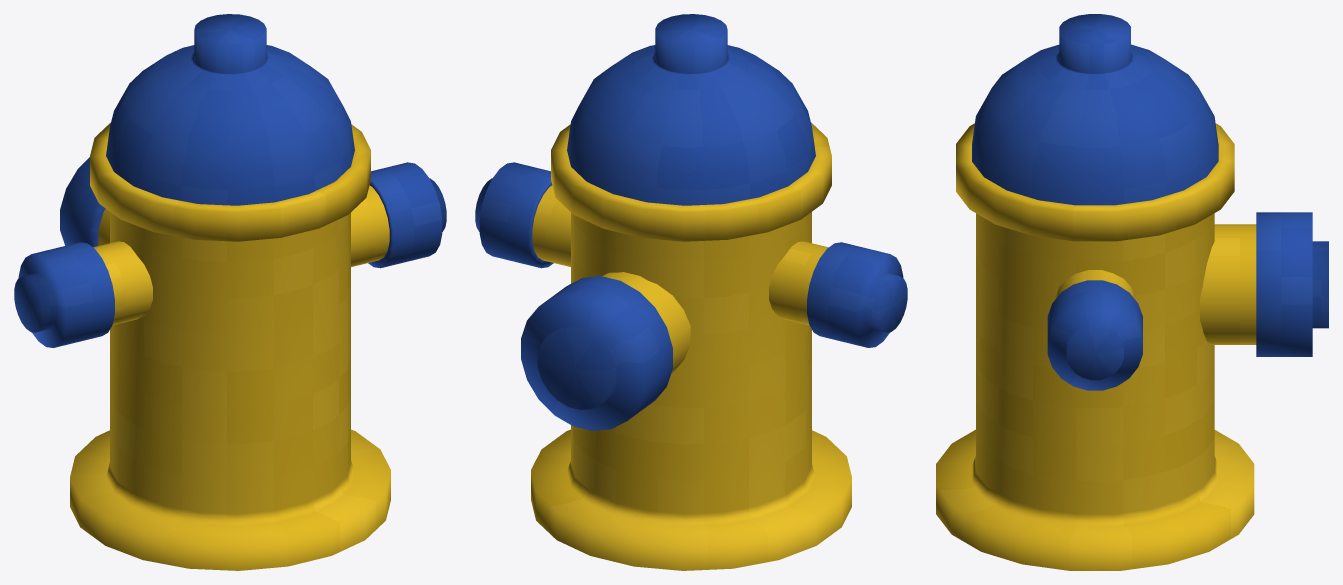
File: streetscape_hydrant.obj
3 renders of one model, left to right at view 1: azimuth 30°, elevation 25°; view 2: azimuth 150°, elevation 25°; view 3: azimuth 270°, elevation 25°, orthographic.
Parts seen in each view (by area): view 1: streetscape_hydrant; view 2: streetscape_hydrant; view 3: streetscape_hydrant.
Part boxes in pixels (x1=…): streetscape_hydrant: x1=14, y1=14, x2=446, y2=570; streetscape_hydrant: x1=475, y1=14, x2=907, y2=570; streetscape_hydrant: x1=936, y1=14, x2=1328, y2=570.
Size of the model in its own units: 0.725 by 0.8125 by 0.6094.
